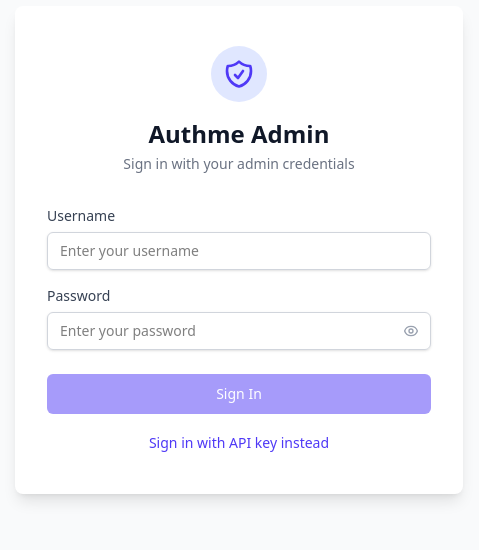
LoginPage – credentials mode › shows an error message when credentials are wrong
Type "wrong" into the field labelled "Username" at (239, 251), box [47,232,431,270]
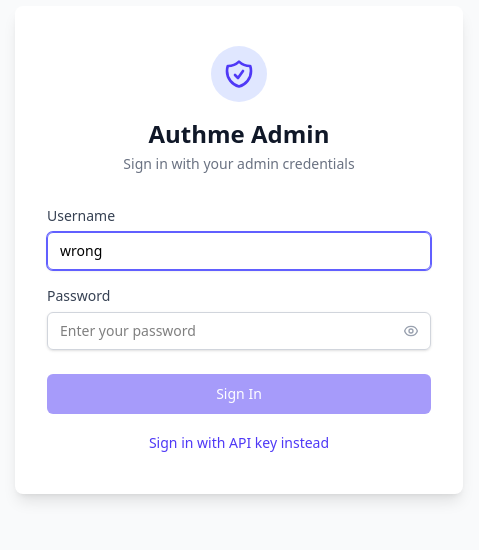
Type "wrong" into the password field with placeholder "Enter your password" at (239, 331), box [47,312,431,350]
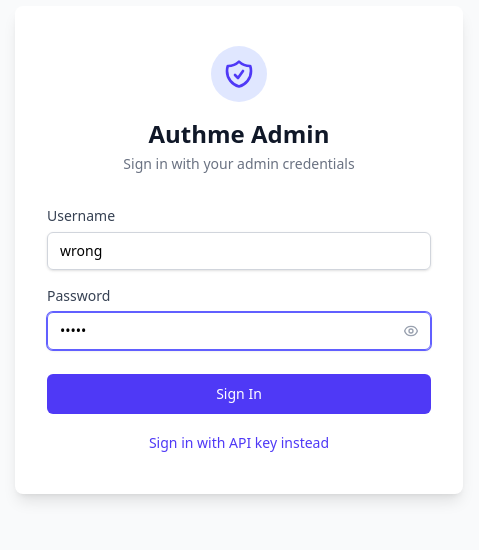
Click the button "Sign In" at (239, 394), box [47,374,431,414]
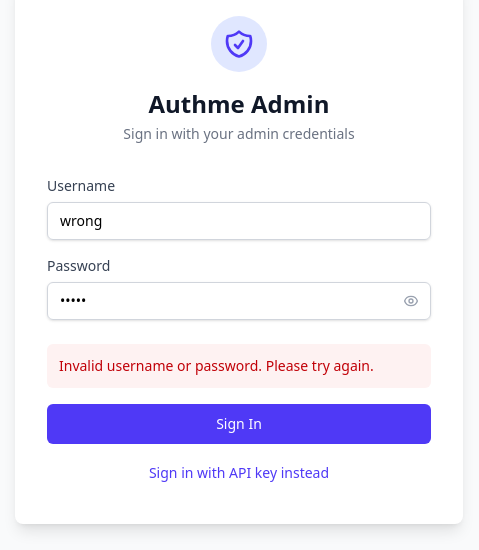
Result: the text "Invalid username or password. Please try again." is shown at [47,344,431,388]
